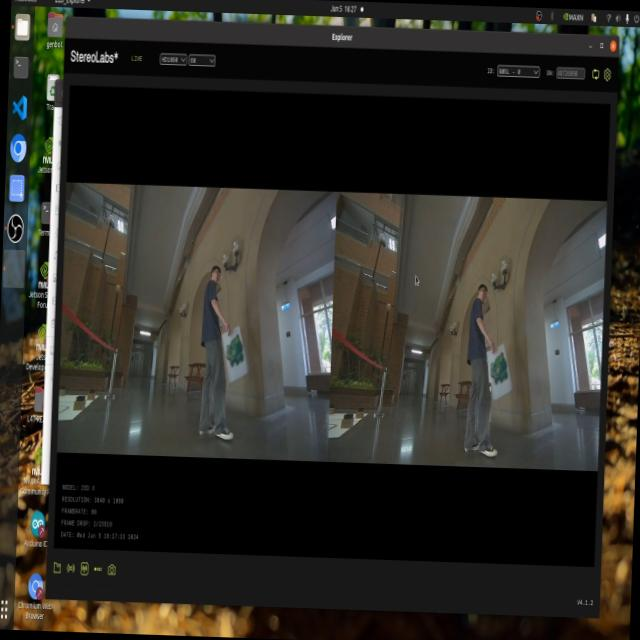green: (480, 352, 513, 398), (221, 330, 243, 372)
